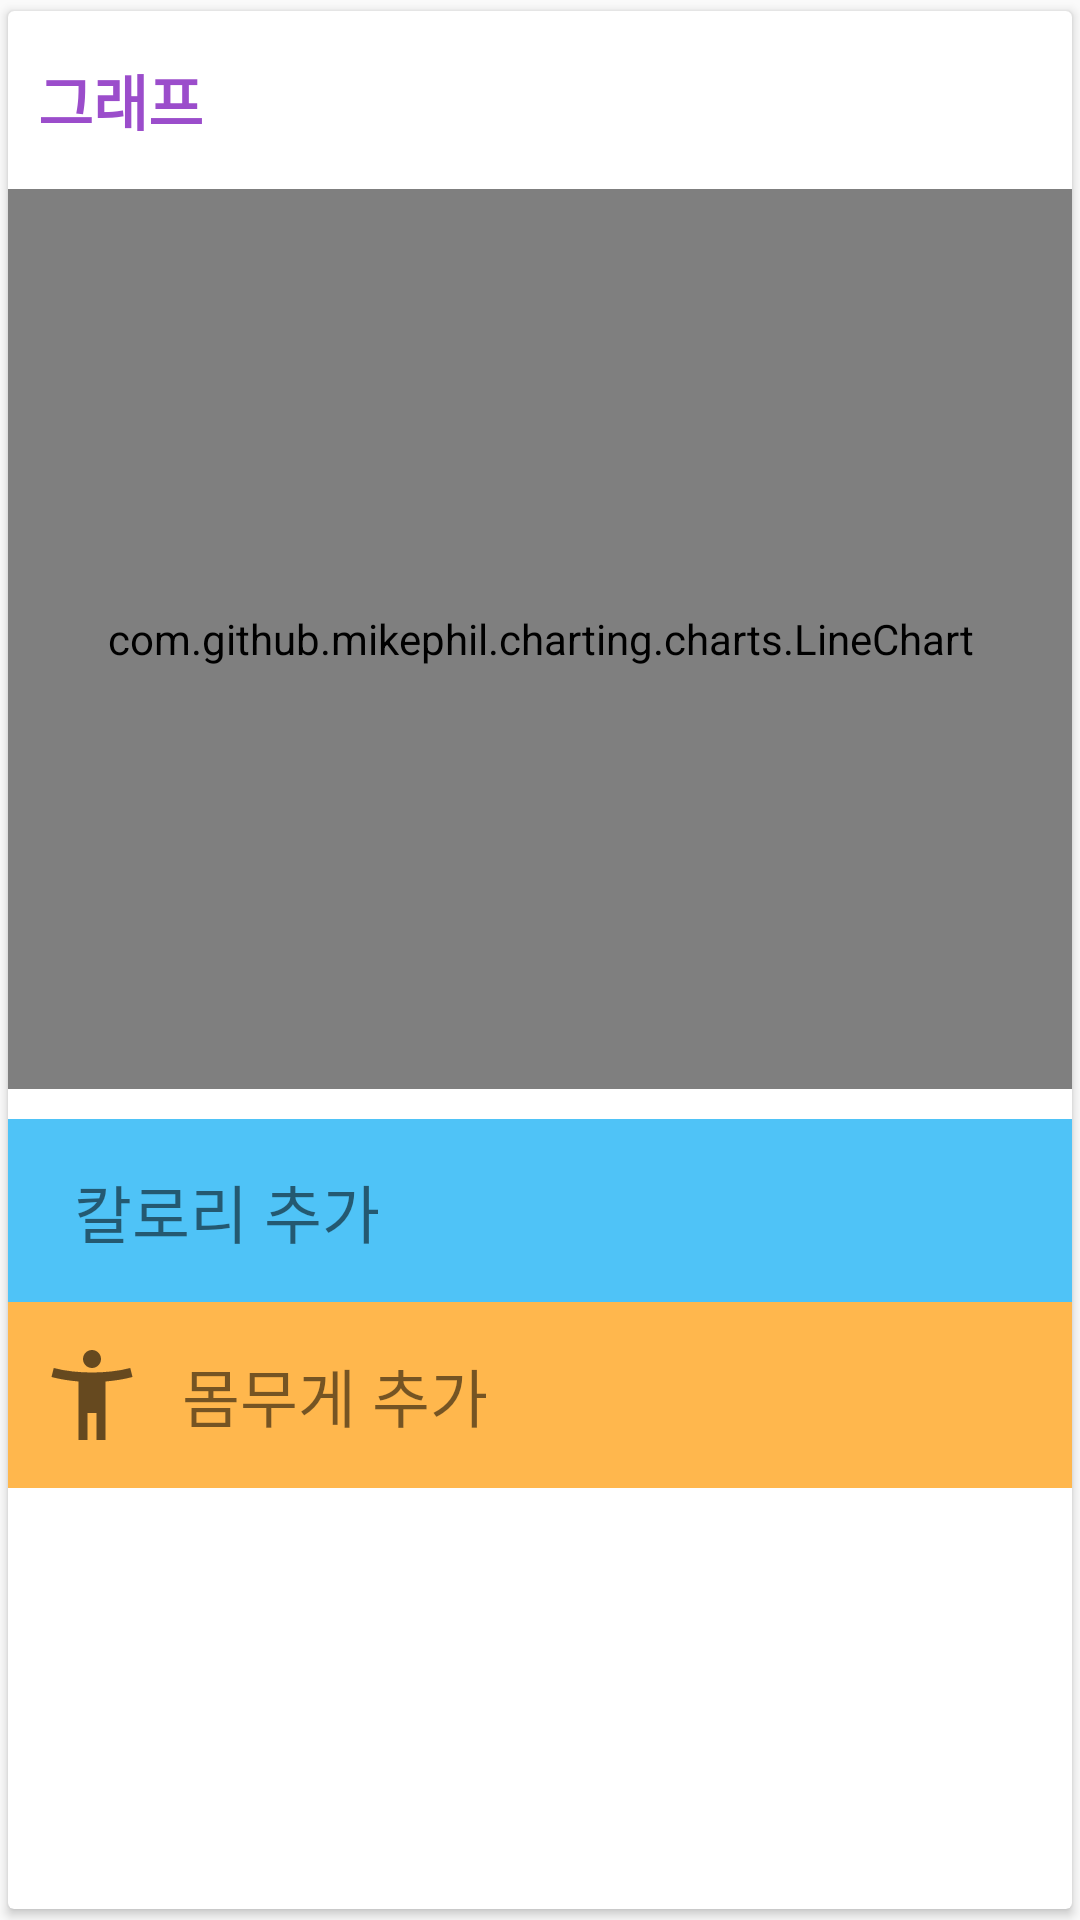

Where to tap for icons on this 1080*1920 app screen, as point (x, y):
accessibility: point (92, 1395)
